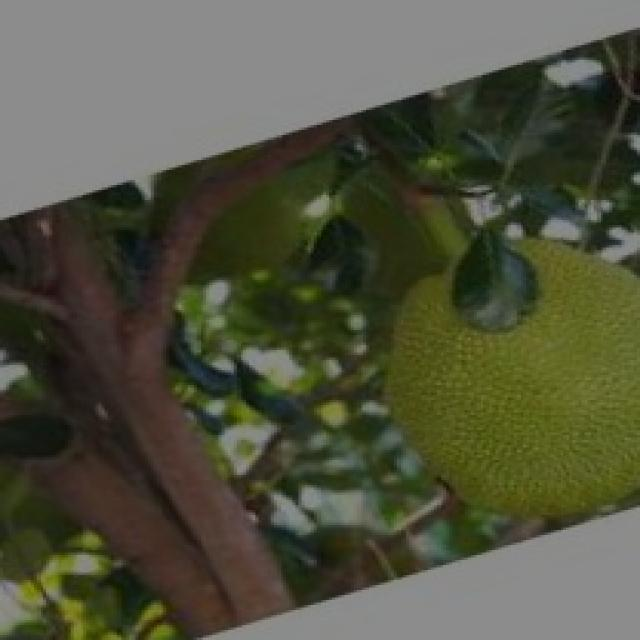Fruit: (344, 200, 640, 547)
